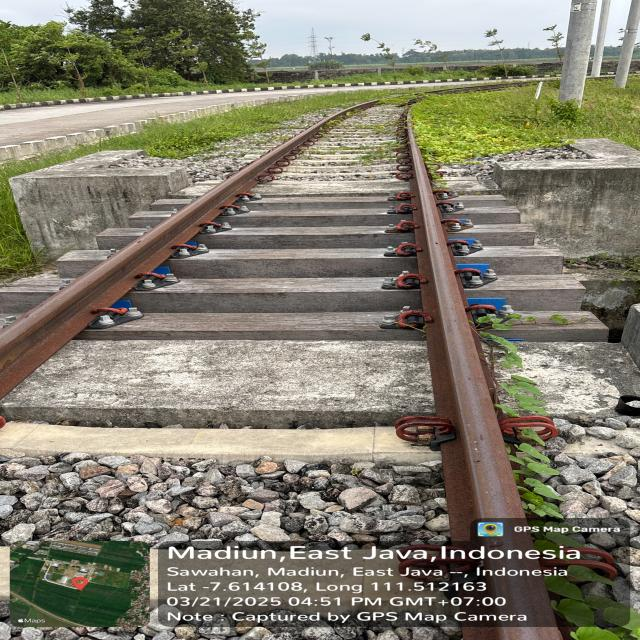rail-detection: (0, 101, 378, 397), (407, 119, 524, 544), (463, 578, 561, 640)
